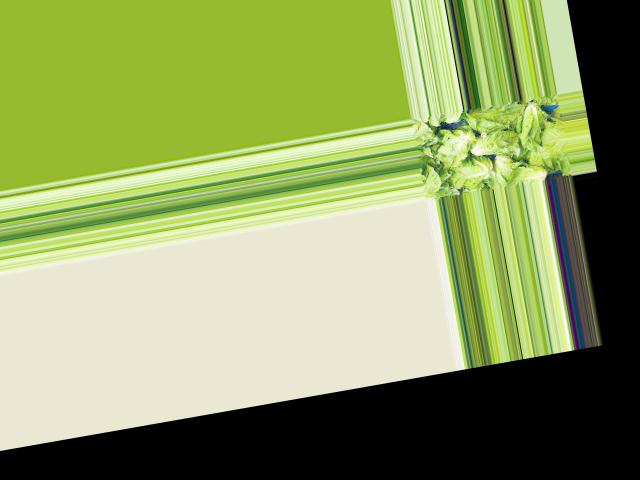lettuce: (502, 159, 554, 186)
